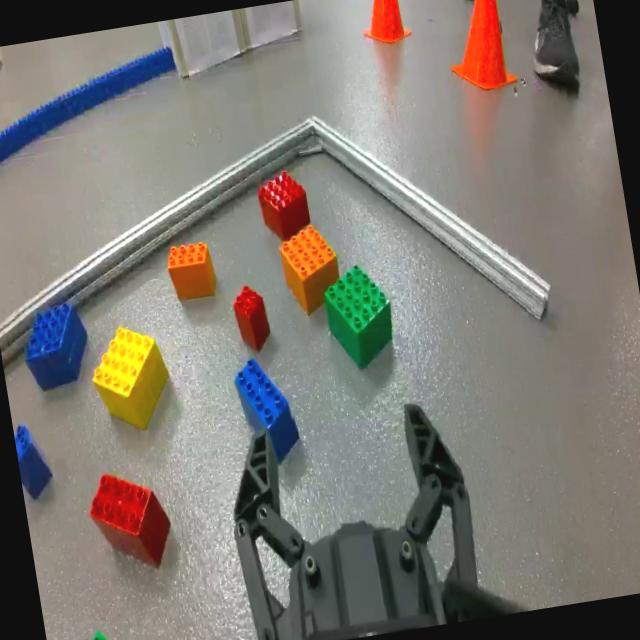block: (86, 318, 180, 442)
blue: (15, 294, 98, 394), (235, 350, 302, 467), (14, 417, 56, 506)
cone: (438, 0, 524, 98), (358, 0, 417, 50)
green: (316, 258, 402, 373), (58, 621, 149, 640)
orange: (272, 222, 348, 320), (162, 236, 223, 306)
red goal: (84, 461, 178, 580), (253, 166, 315, 242), (228, 282, 274, 358)
river: (0, 45, 184, 153)
storage cube: (156, 10, 250, 84), (239, 0, 306, 52)
yellow goal: (0, 48, 12, 114)
